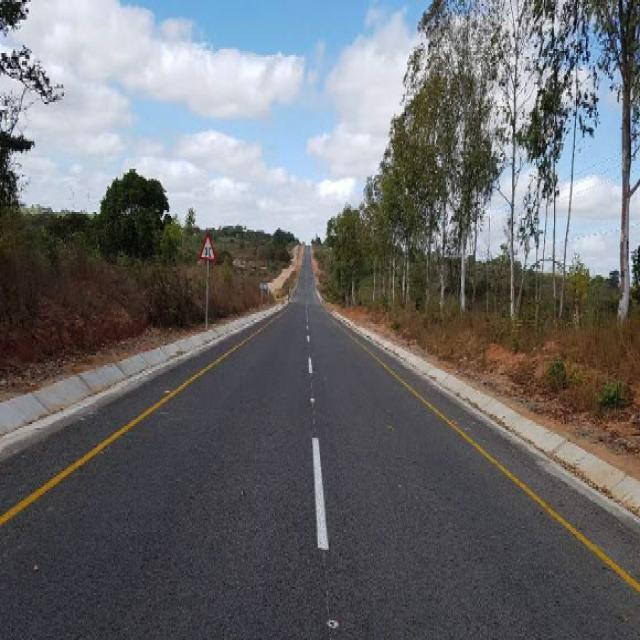asphalt: (0, 249, 639, 638)
cement: (331, 312, 639, 524)
